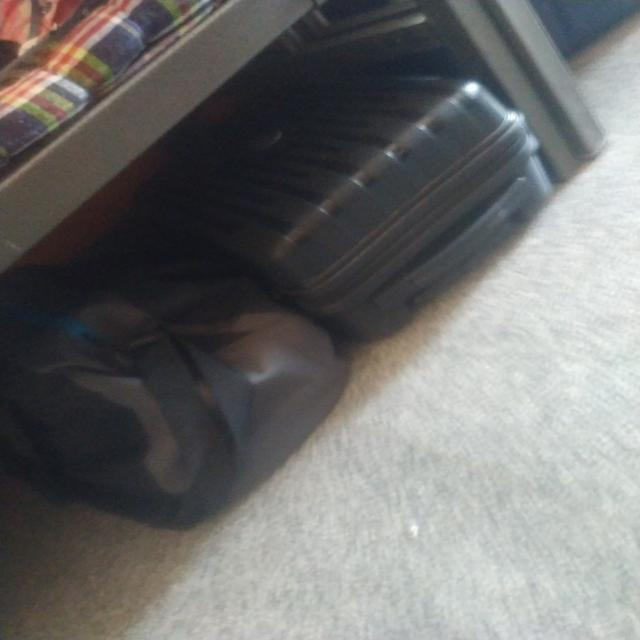suitcaserotation: (164, 61, 556, 342)
